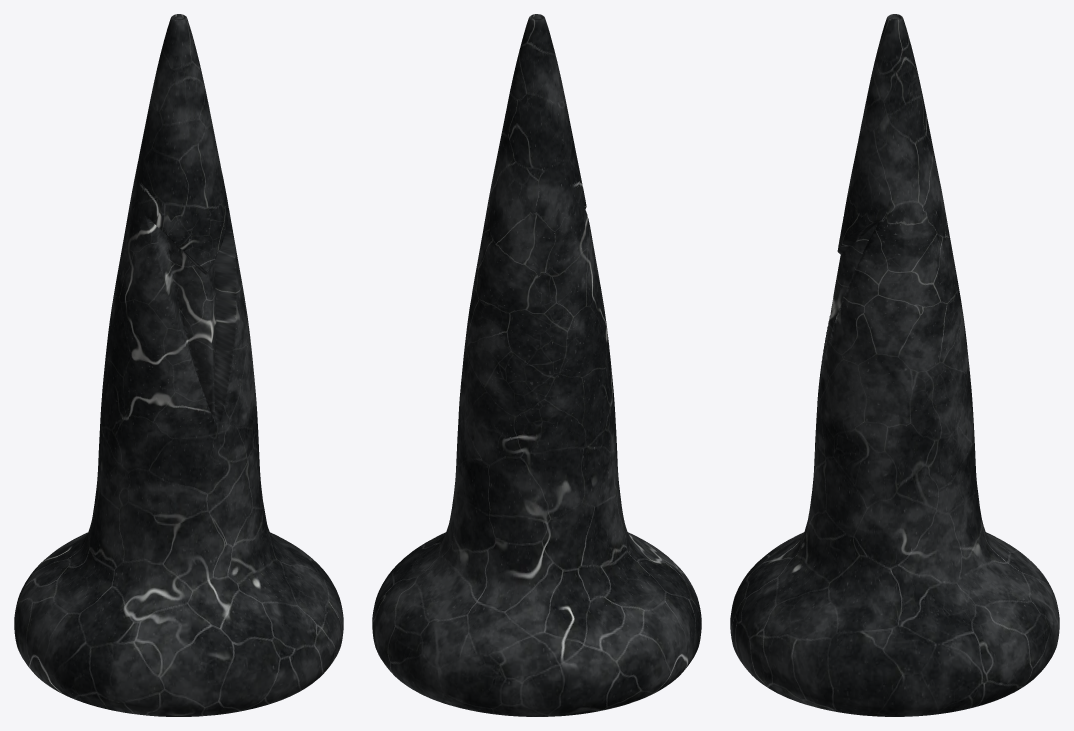
File: king-black-hd.glb
3 views of the same model, side by side, from view 1: azimuth 30°, elevation 25°; view 2: azimuth 150°, elevation 25°; view 3: azimuth 270°, elevation 25° (orthographic).
Parts seen in each view (by area): view 1: Serpentina_king_black; view 2: Serpentina_king_black; view 3: Serpentina_king_black.
Boxes of the visible parts, x1,y1,x2,y2 form: Serpentina_king_black: [14, 14, 343, 716]; Serpentina_king_black: [372, 14, 701, 716]; Serpentina_king_black: [730, 14, 1059, 716].
Bounding box in the file's own units: 0.7729 × 1.65 × 0.7729.
1 material, 1 textured.
